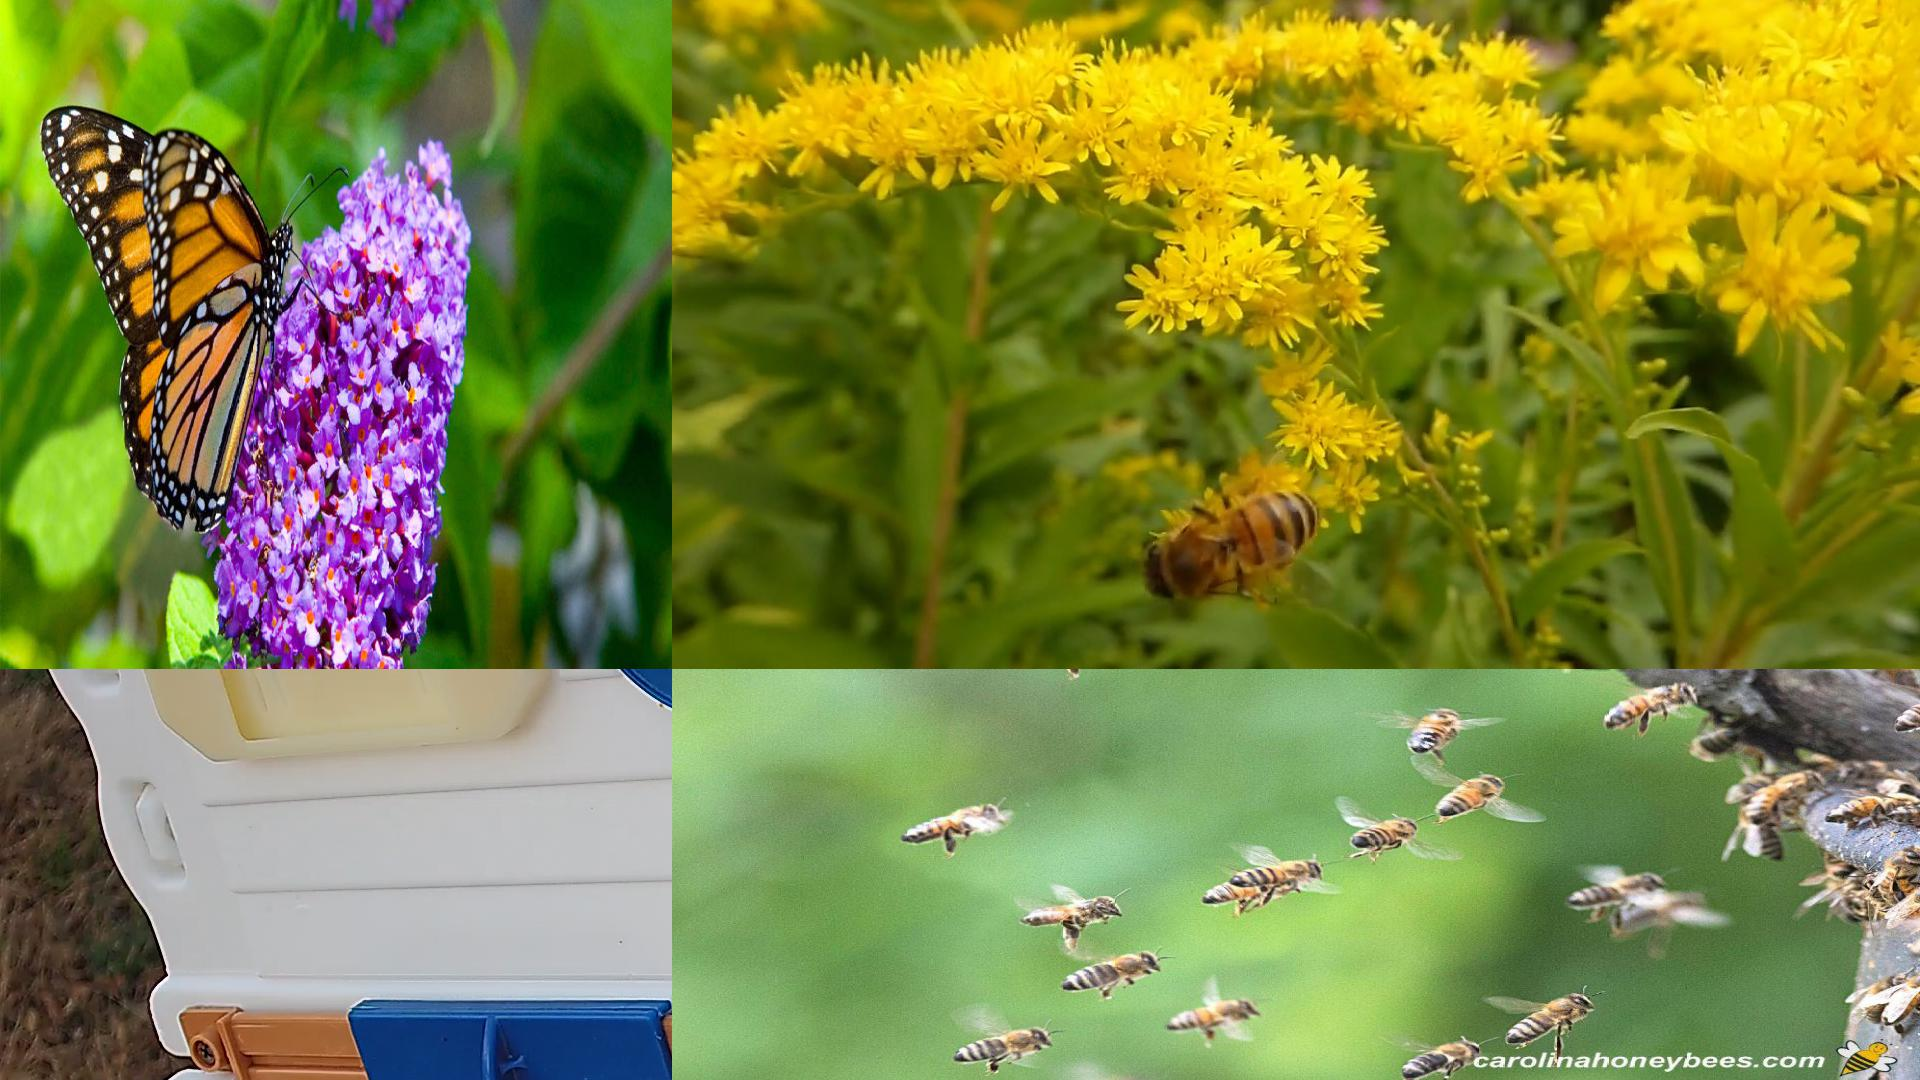bee: (1147, 492, 1317, 595), (1506, 992, 1596, 1042), (1062, 952, 1160, 990), (901, 804, 998, 843), (1605, 684, 1693, 727), (955, 1027, 1052, 1062), (1568, 873, 1663, 906), (1403, 1039, 1480, 1079), (1625, 895, 1704, 931), (1025, 895, 1116, 926), (1436, 775, 1505, 815), (1168, 1000, 1255, 1030), (1880, 847, 1919, 911), (1735, 811, 1783, 862), (1233, 860, 1321, 886), (1204, 878, 1296, 903), (1865, 972, 1907, 1023), (1767, 770, 1830, 803), (1353, 818, 1418, 848), (1410, 711, 1457, 752), (1826, 795, 1896, 822), (1751, 786, 1797, 823), (1887, 982, 1919, 1026), (1820, 848, 1855, 886), (1693, 731, 1738, 761), (1733, 771, 1778, 802), (1878, 775, 1919, 800), (1845, 870, 1869, 909), (1890, 802, 1920, 827), (1894, 703, 1919, 733)
